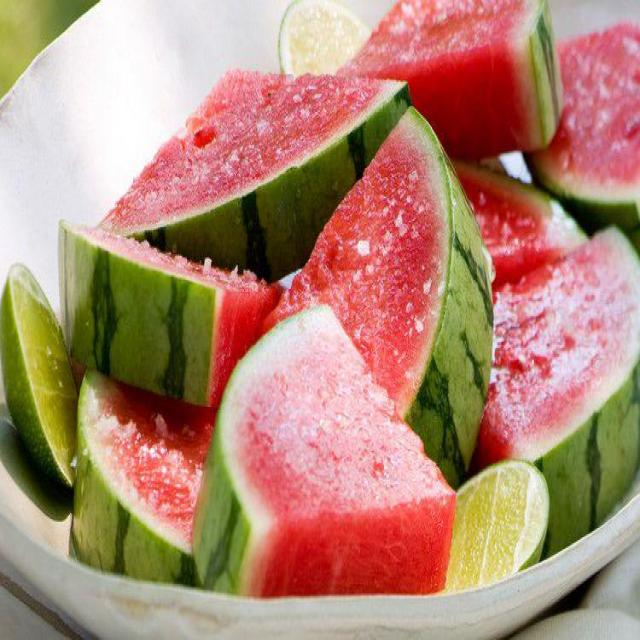watermelon: (248, 104, 499, 498), (189, 294, 456, 608), (82, 54, 421, 294), (451, 212, 640, 562), (52, 211, 284, 411), (305, 0, 565, 165), (65, 356, 229, 601), (503, 18, 640, 236)
